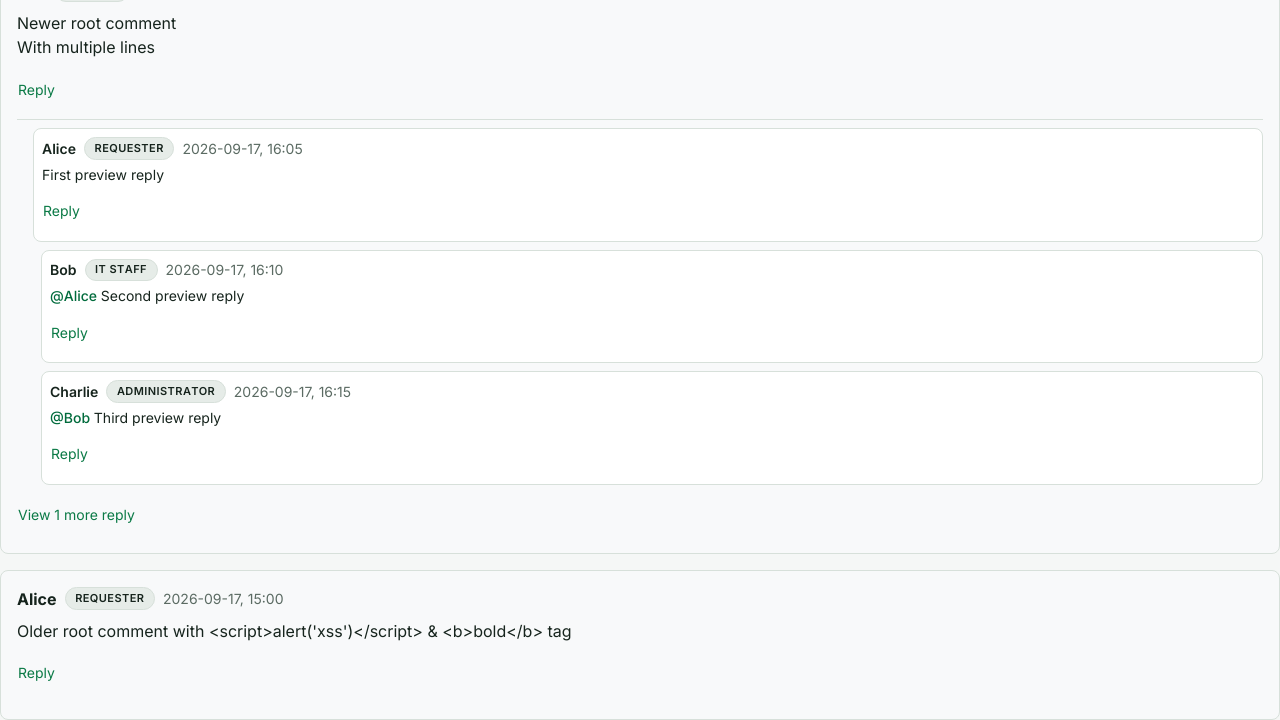
it: PublicComments component @issue-6 › UI-24 & UI-37 Reply preview, depth-2 presentation, and safe plain text › expands replies via View More button and deduplicates against previews
The width and height of the screenshot is (1280, 720).
(page scrolled)
Expected: the text "Newer root comment With multiple lines" is shown, [17, 13, 176, 57]
Click the button "View 1 more reply" at [76, 515], box [17, 493, 136, 537]
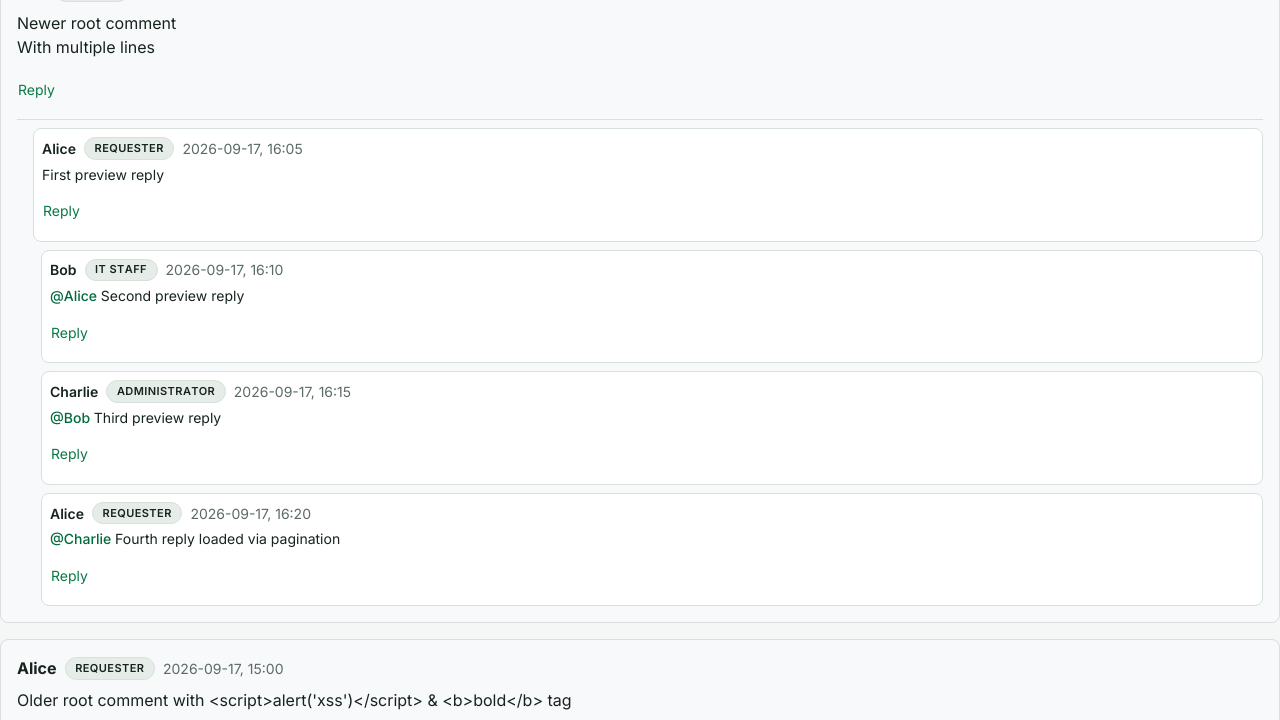
Expected: the text "First preview reply" is shown once, [42, 166, 164, 183]
Expected: the text "Fourth reply loaded via pagination" is shown, [115, 530, 340, 547]
